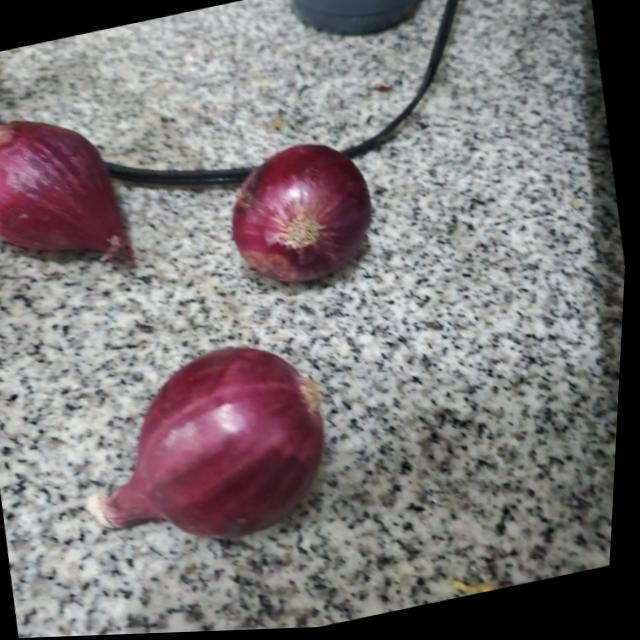onion: (86, 330, 352, 562), (0, 99, 144, 295), (222, 136, 385, 295)
